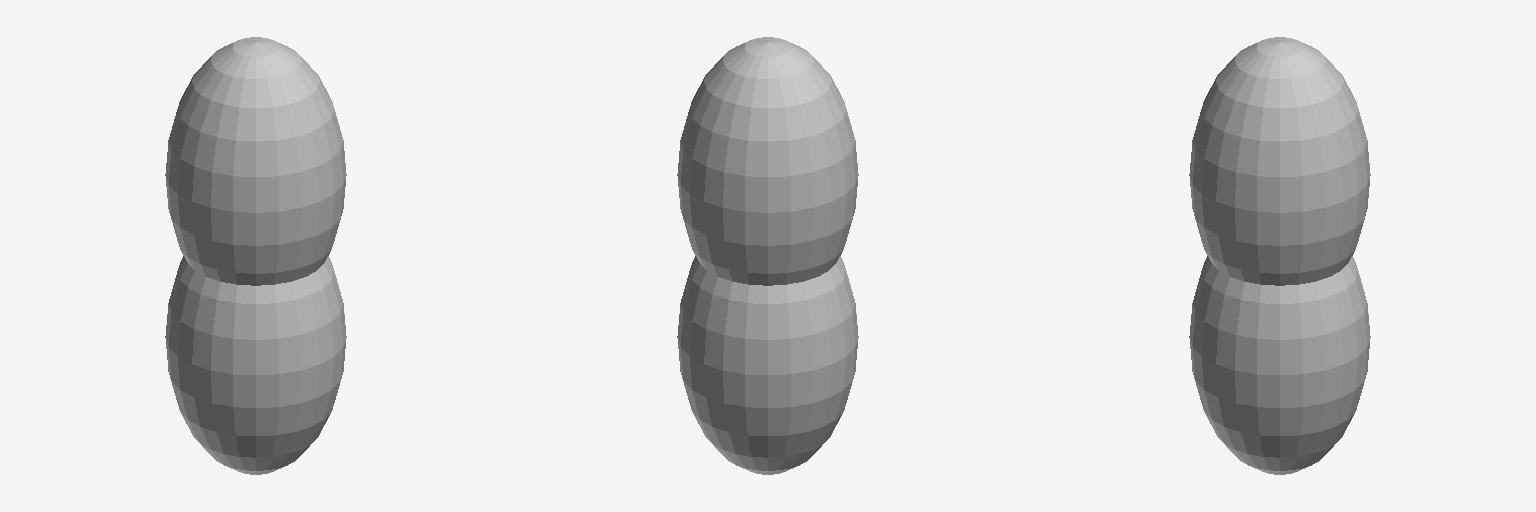
The model's file is original-8.obj.
3 renders of one model, left to right at view 1: azimuth 30°, elevation 25°; view 2: azimuth 150°, elevation 25°; view 3: azimuth 270°, elevation 25°, orthographic.
Parts seen in each view (by area): view 1: Group9/mesh4/mesh4-geometry#mesh4-geometry; view 2: Group9/mesh4/mesh4-geometry#mesh4-geometry; view 3: Group9/mesh4/mesh4-geometry#mesh4-geometry.
Part boxes in pixels (x1,y1,x2,y2): Group9/mesh4/mesh4-geometry#mesh4-geometry: (165, 37, 346, 474); Group9/mesh4/mesh4-geometry#mesh4-geometry: (677, 37, 858, 474); Group9/mesh4/mesh4-geometry#mesh4-geometry: (1189, 37, 1370, 474).
Size of the model in its own units: 0.0311 by 0.0808 by 0.0311.